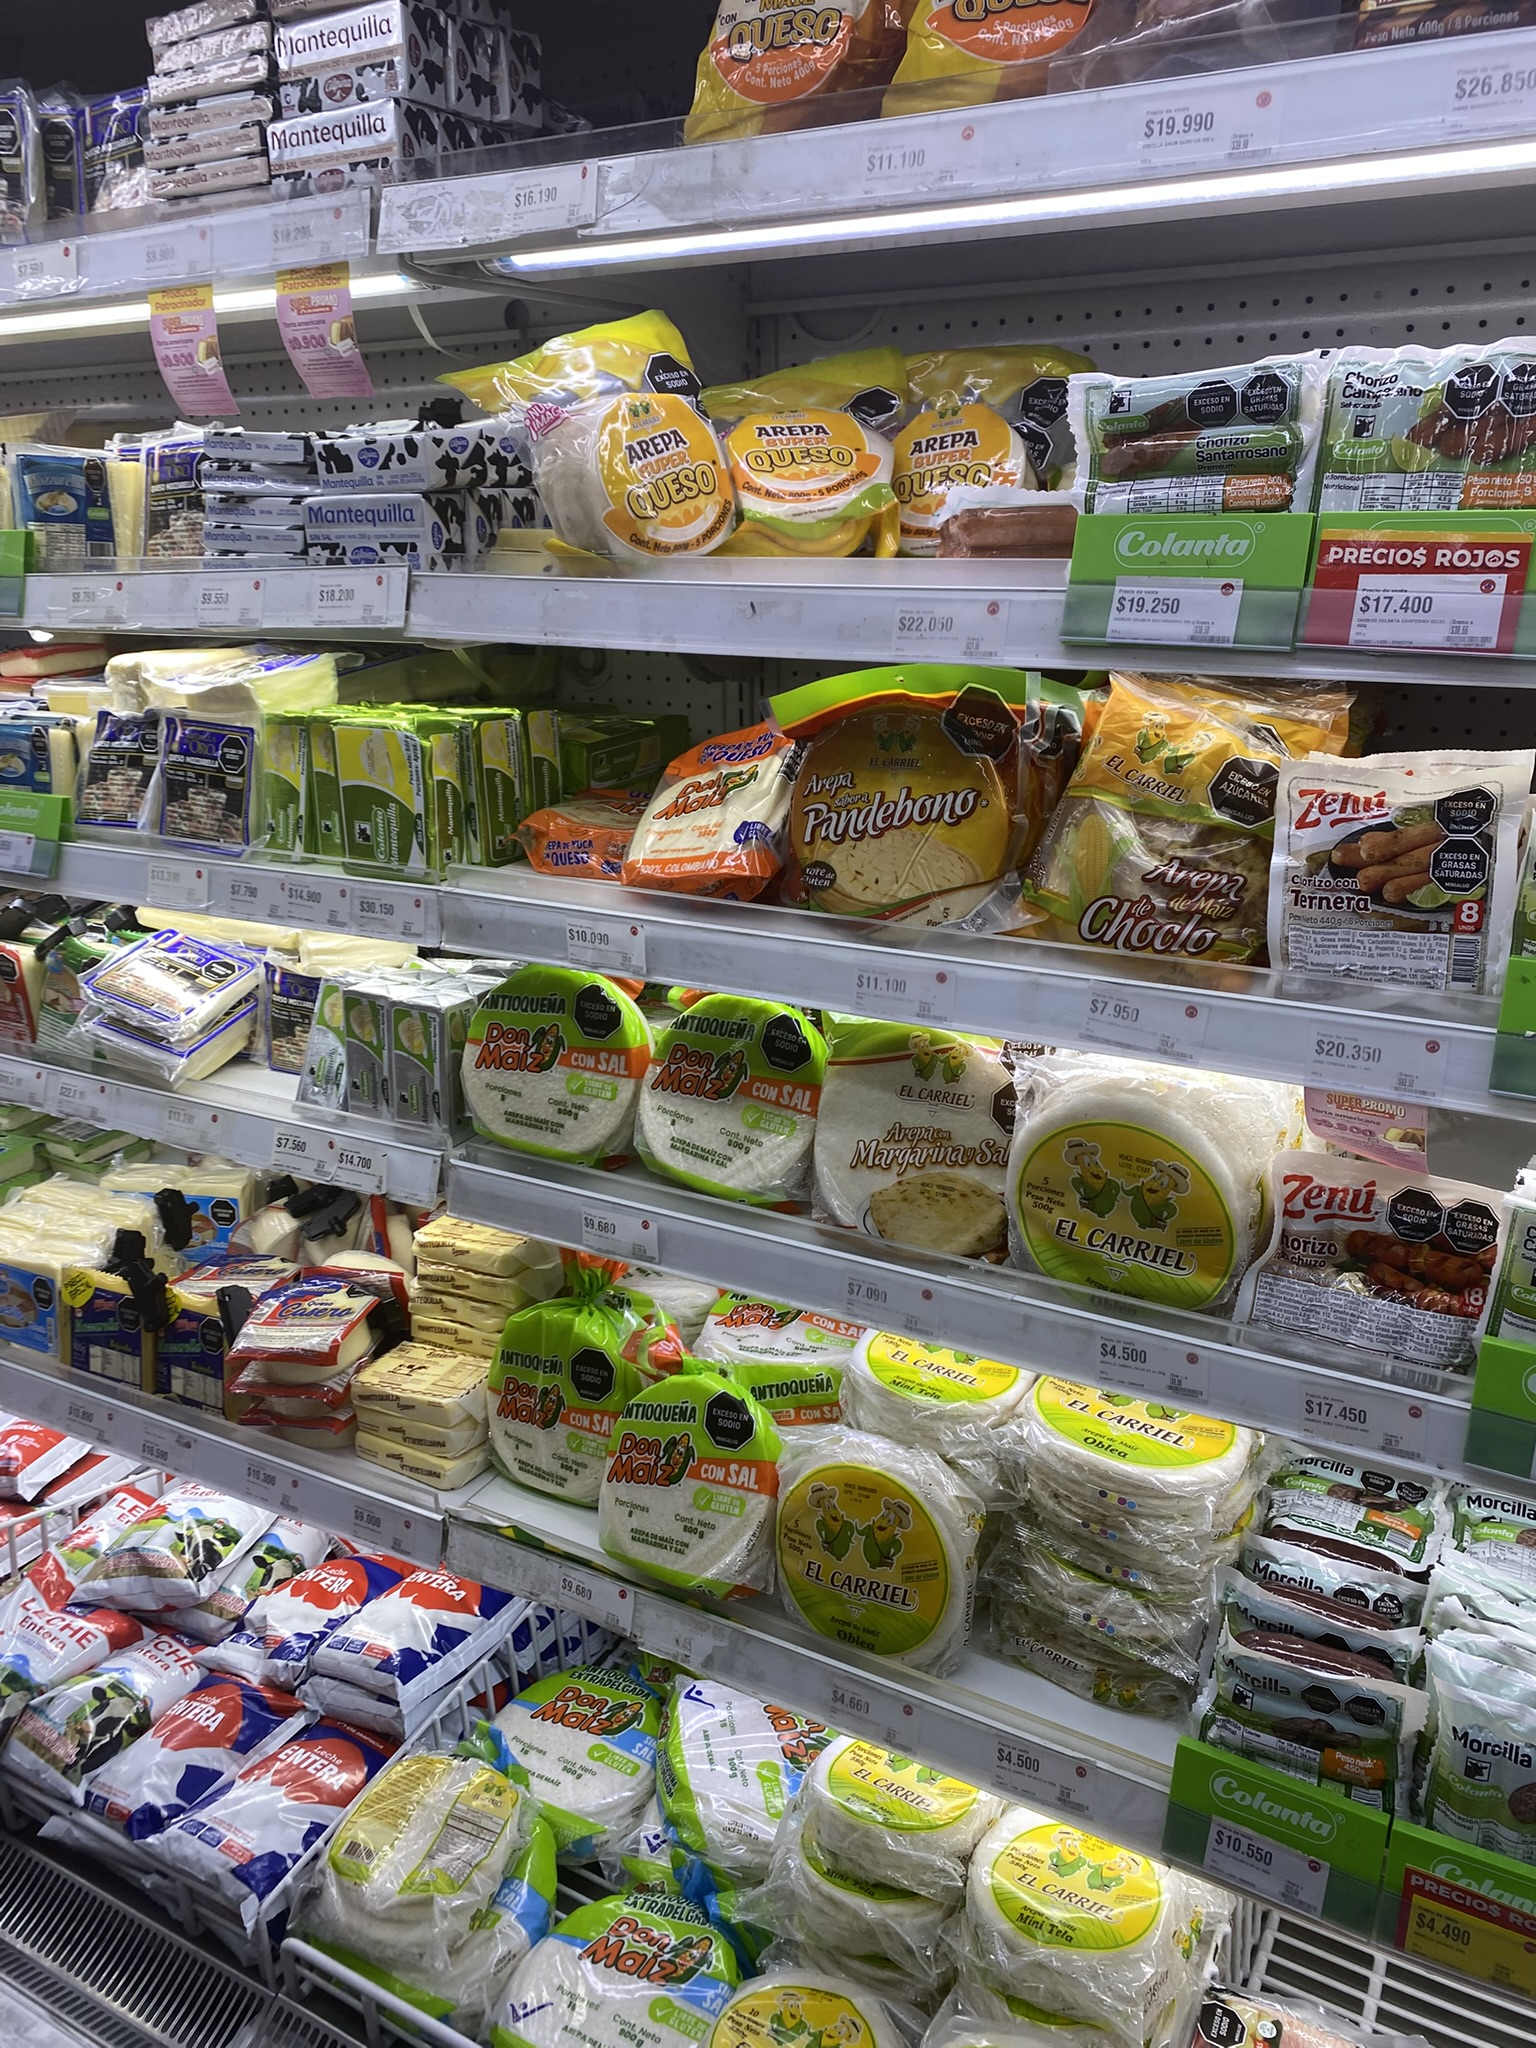Arepa: (1004, 1035, 1262, 1309), (776, 1426, 958, 1709), (970, 1801, 1196, 2000), (300, 1755, 516, 1929), (1031, 1380, 1238, 1555), (841, 1317, 1031, 1467), (797, 1732, 975, 1871)
